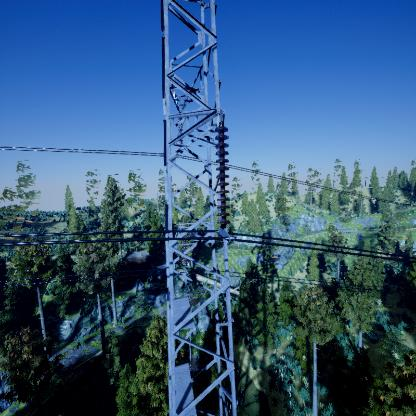insulator: (214, 125, 233, 230)
